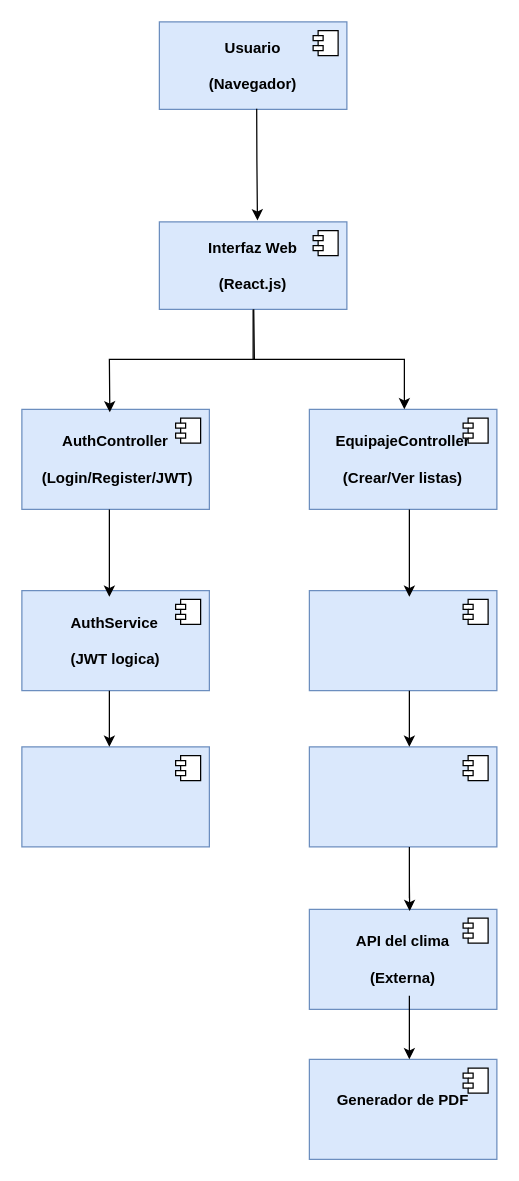
This 519x1181 diagram has some shape labels left out. Each missing label, with the centre of its shape:
EquipajeRepository (Accede a la BD): point 402,796
EquipajeService (Logica de negocio): point 402,640
UusarioRepository (Accede a la BD): point 115,796
